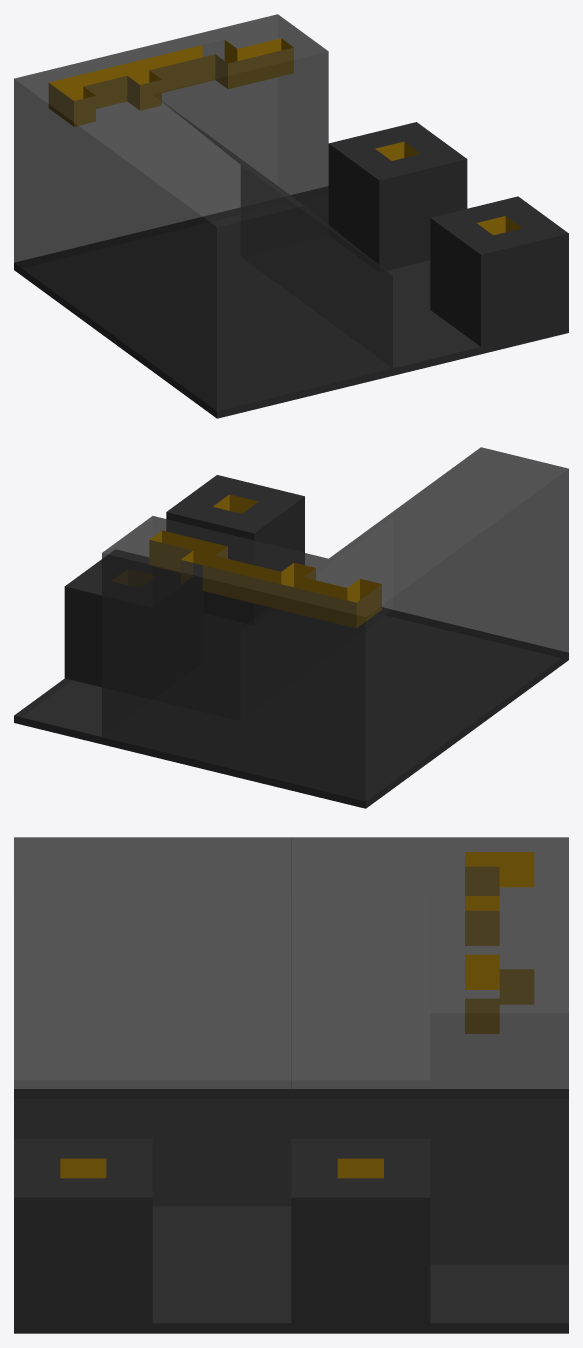
Rendered from blank005.gltf.
3 renders of one model, top to bottom at view 1: azimuth 30°, elevation 25°; view 2: azimuth 150°, elevation 25°; view 3: azimuth 270°, elevation 25°, orthographic. The views are drawn at different scales.
Visible parts, largest first — view 1: blank005; view 2: blank005; view 3: blank005.
Part boxes in pixels (box(x1,y1,x2,y2)): blank005: box(14, 14, 568, 418); blank005: box(14, 447, 568, 808); blank005: box(14, 837, 568, 1333).
Bounding box in the file's own units: 0.1 × 0.052 × 0.1.
